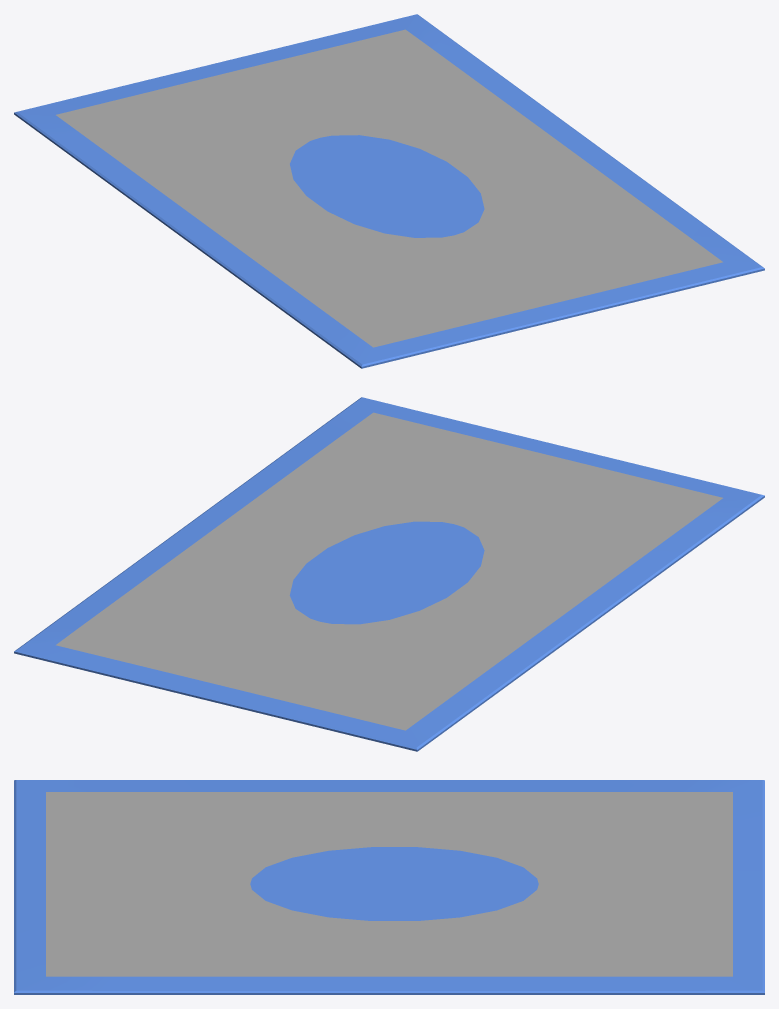
The model's file is Carpet_03.fbx.
The picture shows the model from 3 angles, top to bottom: view 1: azimuth 30°, elevation 25°; view 2: azimuth 150°, elevation 25°; view 3: azimuth 270°, elevation 25°; orthographic projection. The views are drawn at different scales.
Visible parts, largest first — view 1: polySurface69, polySurface70; view 2: polySurface69, polySurface70; view 3: polySurface69, polySurface70.
Part boxes in pixels (bbox=[...]): polySurface69: bbox=[56, 29, 722, 347]; polySurface70: bbox=[14, 14, 764, 368]; polySurface69: bbox=[56, 412, 722, 730]; polySurface70: bbox=[14, 397, 764, 751]; polySurface69: bbox=[46, 792, 732, 976]; polySurface70: bbox=[14, 780, 764, 994].
Bounding box in the file's own units: 250 × 2.56 × 373.
2 materials, 1 textured.
